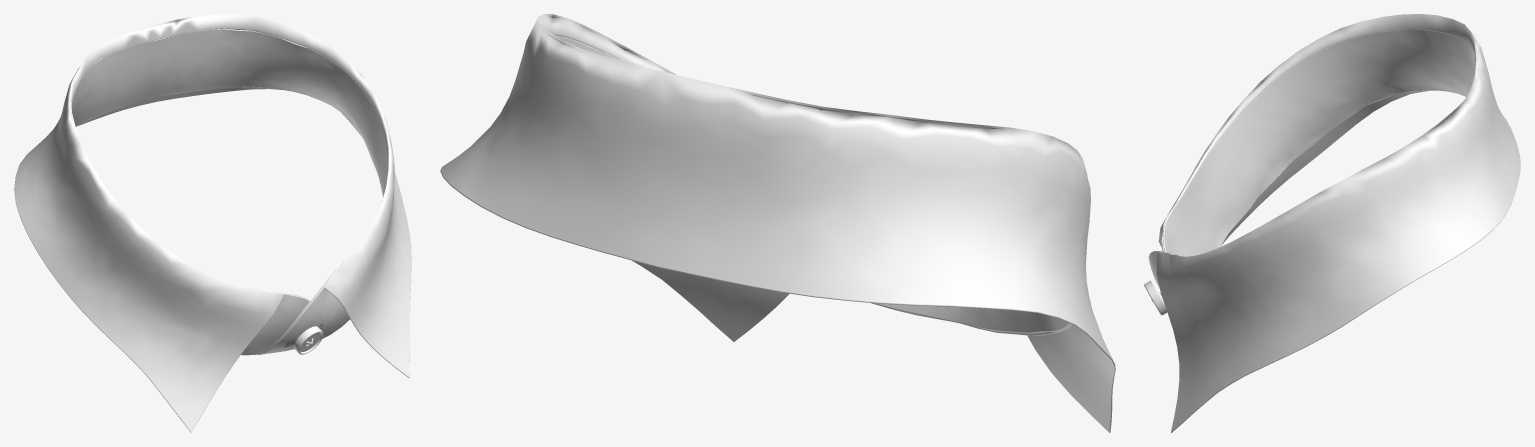
The model's file is Cutaway_Collar.glb.
3 views of the same model, side by side, from view 1: azimuth 30°, elevation 25°; view 2: azimuth 150°, elevation 25°; view 3: azimuth 270°, elevation 25° (orthographic). The views are drawn at different scales.
Visible parts, largest first — view 1: Pattern_4935173_Node, inner_Node, Pattern_4935171_Node, button.001; view 2: Pattern_4935173_Node, inner_Node; view 3: Pattern_4935173_Node, inner_Node, Pattern_4935171_Node.
Boxes of the visible parts, box(x1,y1,x2,y2) form: Pattern_4935173_Node: box(14, 14, 411, 432); inner_Node: box(71, 28, 387, 352); Pattern_4935171_Node: box(75, 28, 387, 355); button.001: box(294, 326, 323, 354); Pattern_4935173_Node: box(440, 14, 1115, 432); inner_Node: box(556, 35, 1070, 333); Pattern_4935173_Node: box(1156, 14, 1520, 432); inner_Node: box(1151, 29, 1475, 256); Pattern_4935171_Node: box(1148, 29, 1466, 288).
Bounding box in the file's own units: 16.21 × 12.21 × 13.25.
6 materials, 1 textured.
